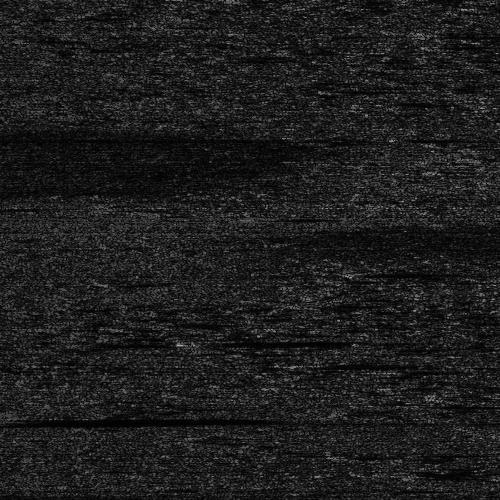object: (295, 267, 400, 278), (0, 411, 41, 426), (158, 335, 211, 346), (272, 361, 313, 368)
shadow: (0, 411, 207, 426), (184, 335, 325, 346), (348, 267, 438, 278), (293, 361, 413, 368)
